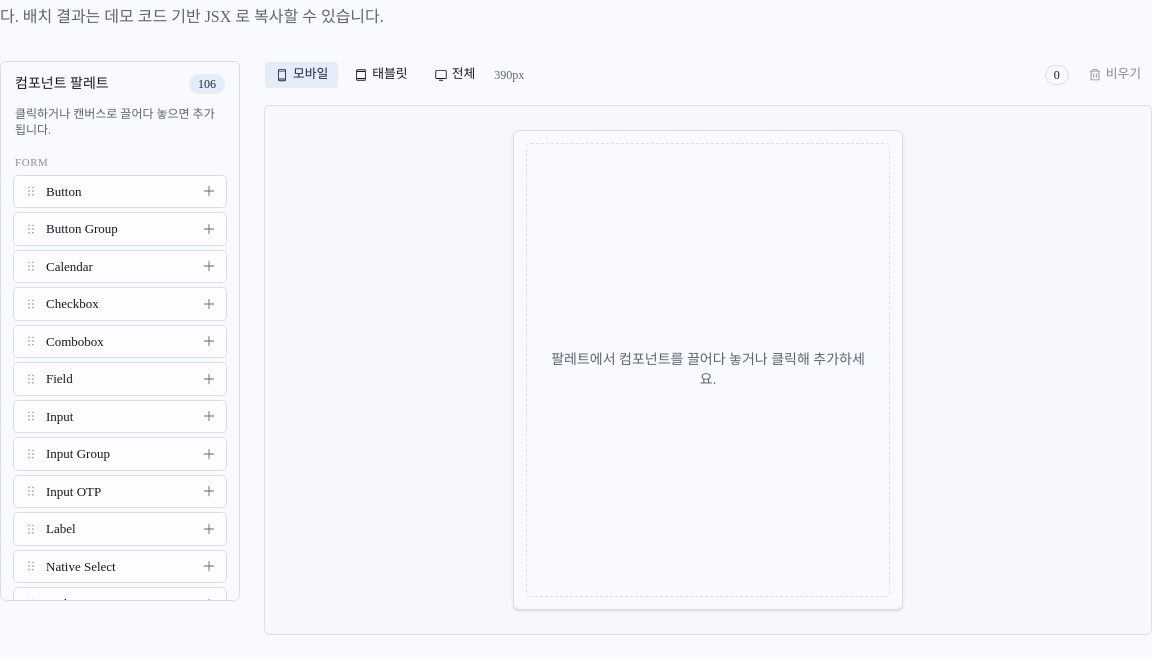
Test case: WireframePage › shows the JSX export section once items exist (#17)
Click the button "Button".
click(120, 191)  # box x1=13 y1=174 x2=227 y2=208
(page scrolled)
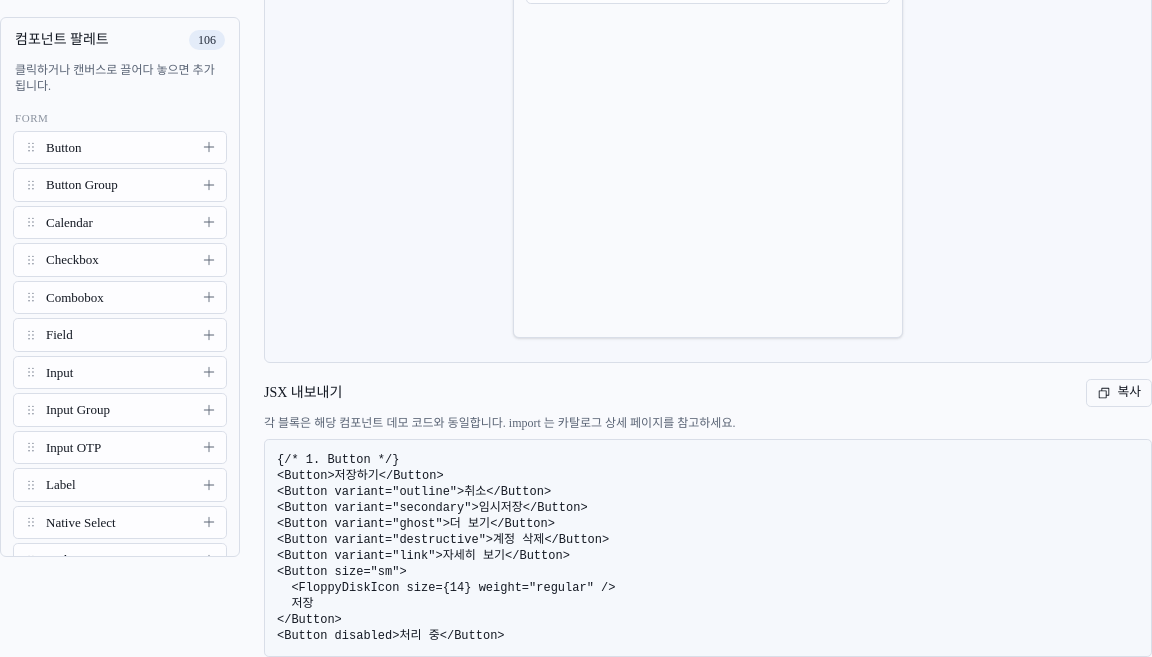
Now the heading "JSX 내보내기" is shown, box x1=264 y1=383 x2=342 y2=403
Now the text "1. Button" is shown, box x1=277 y1=453 x2=616 y2=643
